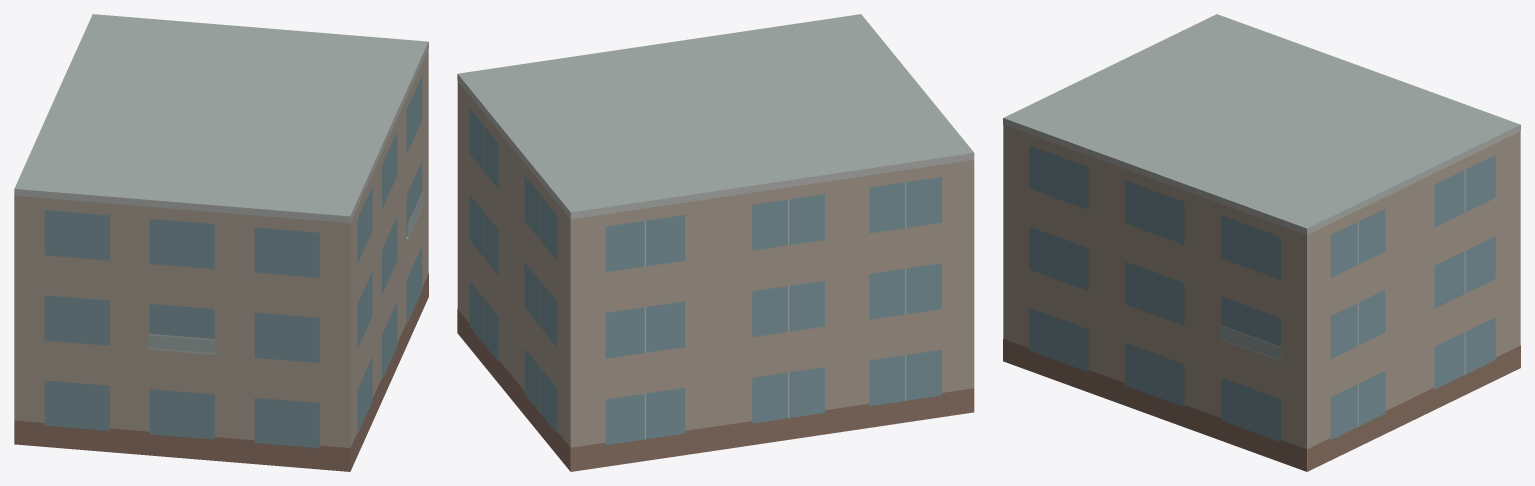
Rendered from survey-upis-32809197.glb.
The picture shows the model from 3 angles, left to right: view 1: azimuth 30°, elevation 25°; view 2: azimuth 150°, elevation 25°; view 3: azimuth 270°, elevation 25°; orthographic projection. The views are drawn at different scales.
Visible parts, largest first — view 1: survey-upis-32809197.tmp; view 2: survey-upis-32809197.tmp; view 3: survey-upis-32809197.tmp.
Part boxes in pixels (left/top/right/bottom): survey-upis-32809197.tmp: left=14, top=14, right=428, bottom=471; survey-upis-32809197.tmp: left=457, top=14, right=974, bottom=471; survey-upis-32809197.tmp: left=1003, top=14, right=1520, bottom=471.
Bounding box in the file's own units: 17.32 × 9.15 × 17.65.
